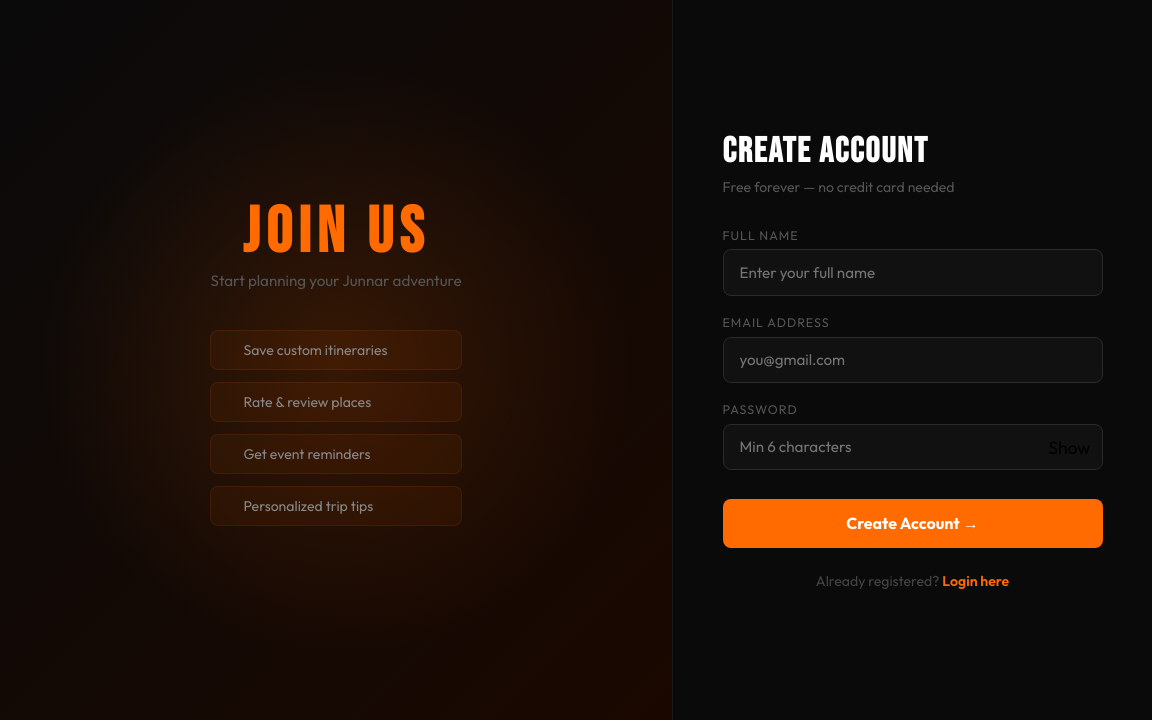
Test: Register page › explains an unreachable / sleeping server instead of a generic failure
Type "Abhi" into the field with placeholder "Enter your full name".
click(912, 273); type("Abhi")  # box [722,249,1102,296]
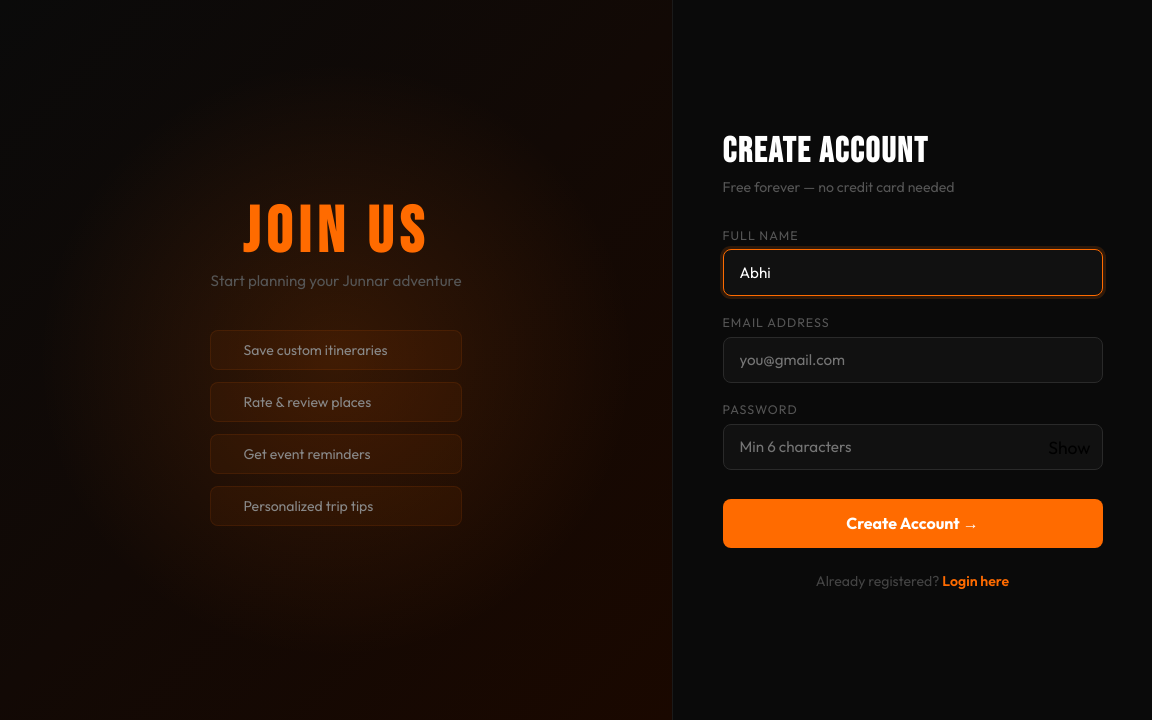
Type "a@gmail.com" into the field with placeholder "you@gmail.com".
click(912, 360); type("a@gmail.com")  # box [722,336,1102,383]
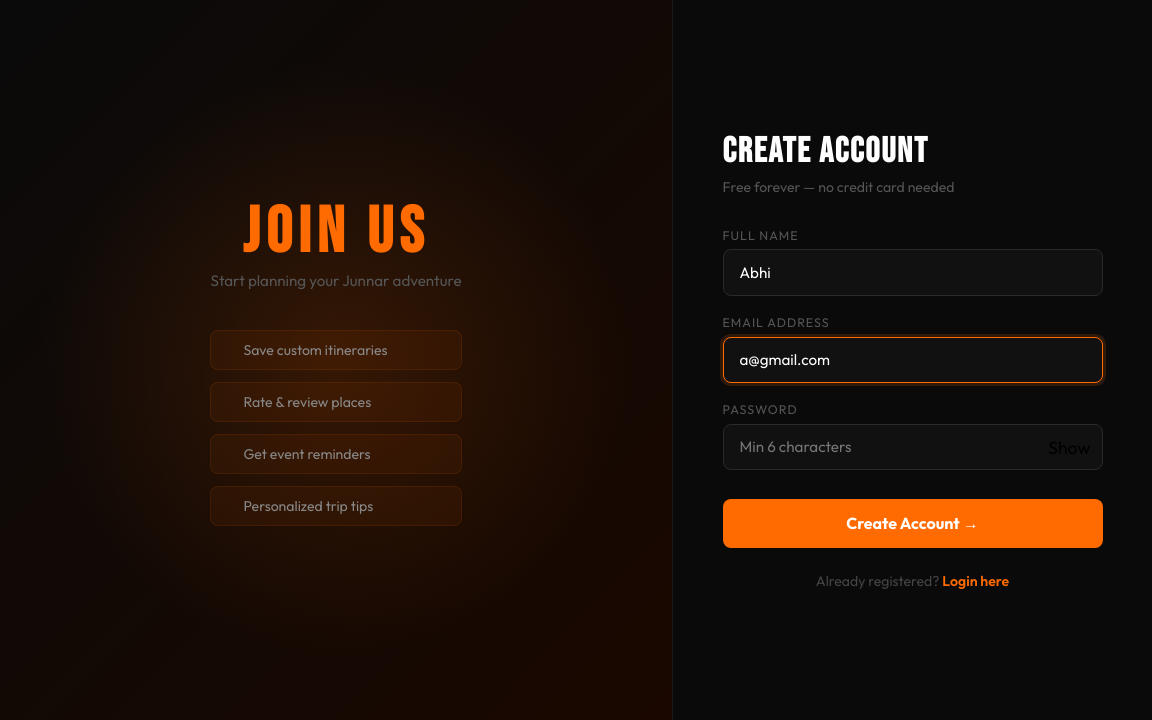
Type "secret1" into the password field with placeholder "Min 6 characters".
click(912, 447); type("secret1")  # box [722,424,1102,470]
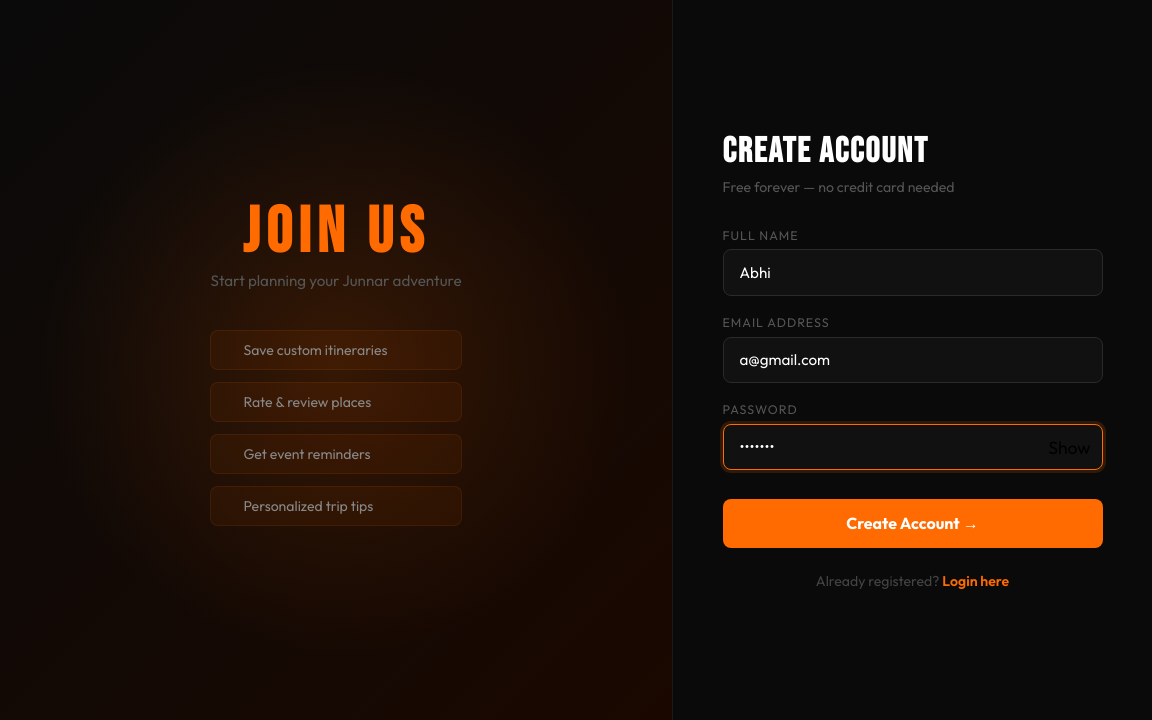
Click the button "Create Account →".
click(912, 524)  # box [722,499,1102,548]
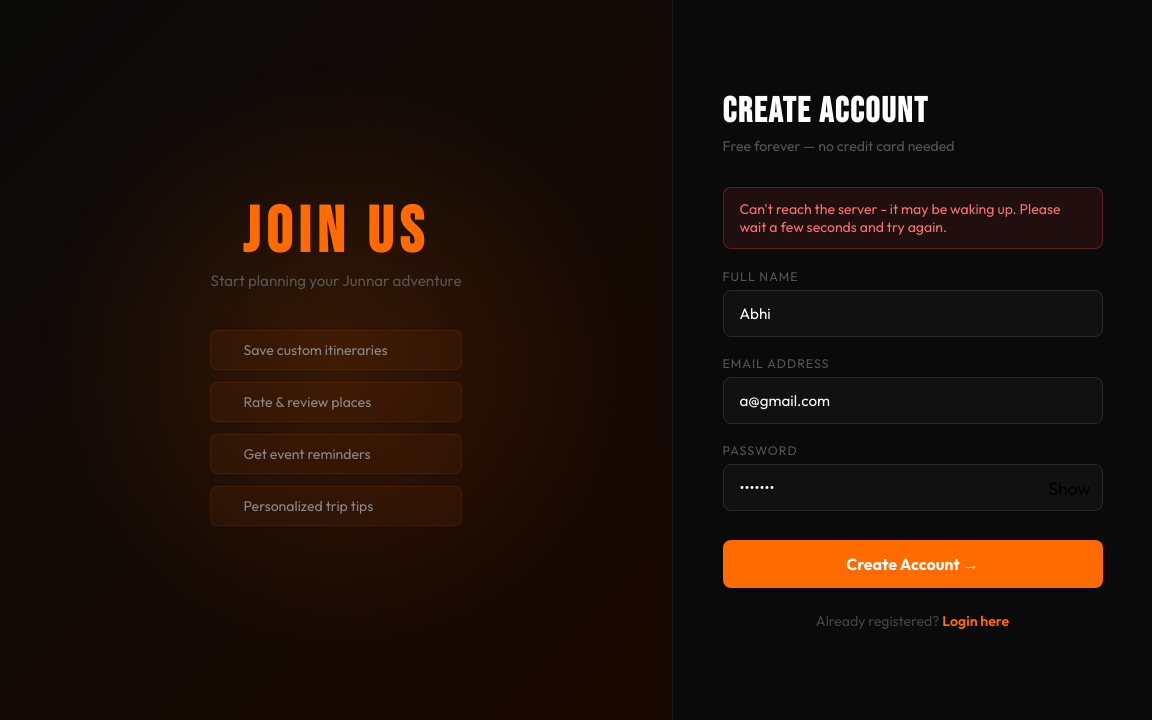
Expected: the button "Create Account →" is enabled, [722,540,1102,588]
Expected: the text "waking up" is shown, [740,200,1060,236]
